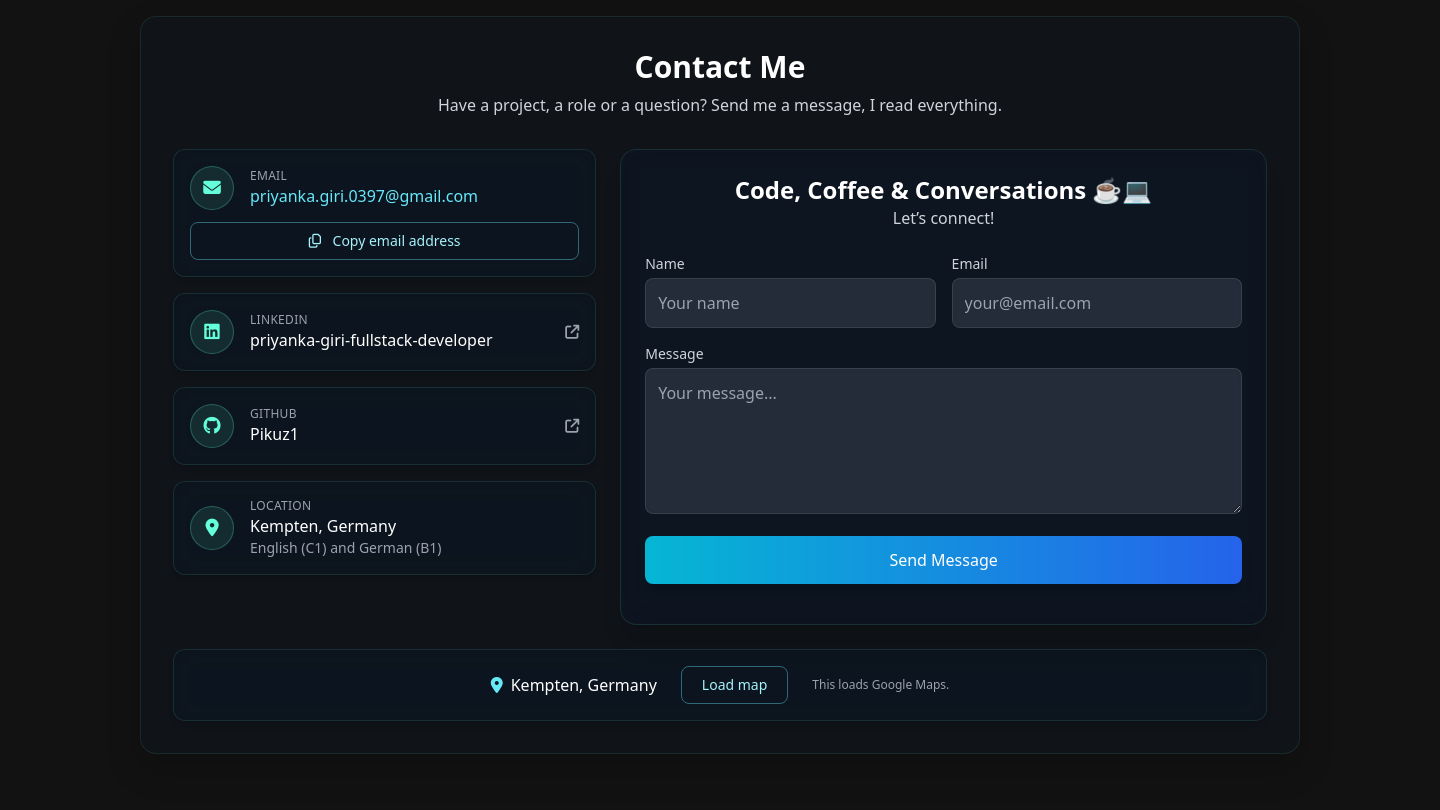
Scenario: ContactComponent › rejects a malformed email address
Type "Ada" into the field with id "name" at (790, 303), box [645,278,936,328]
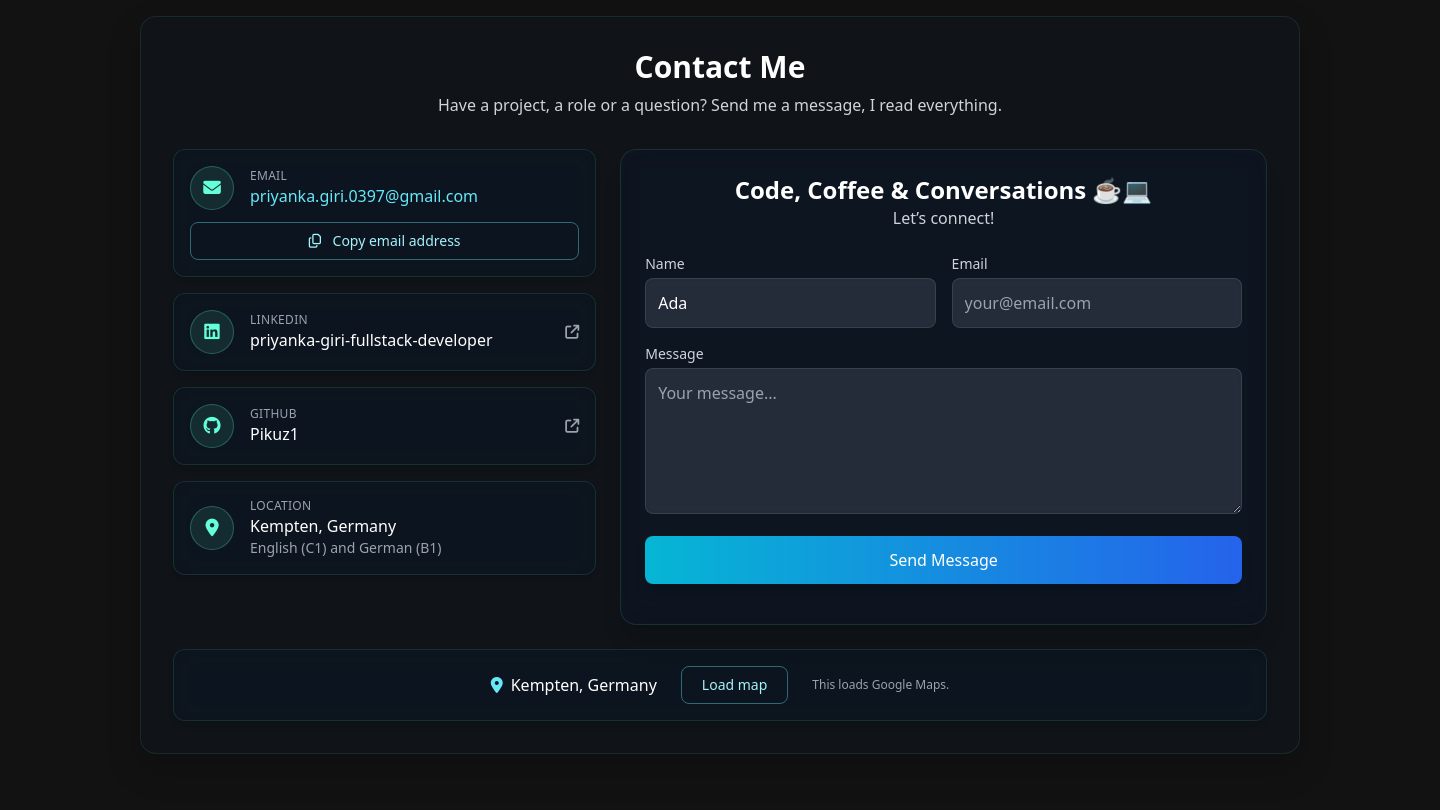
Type "ada@example.com" into the field labelled "Email" at (1097, 303), box [952,278,1242,328]
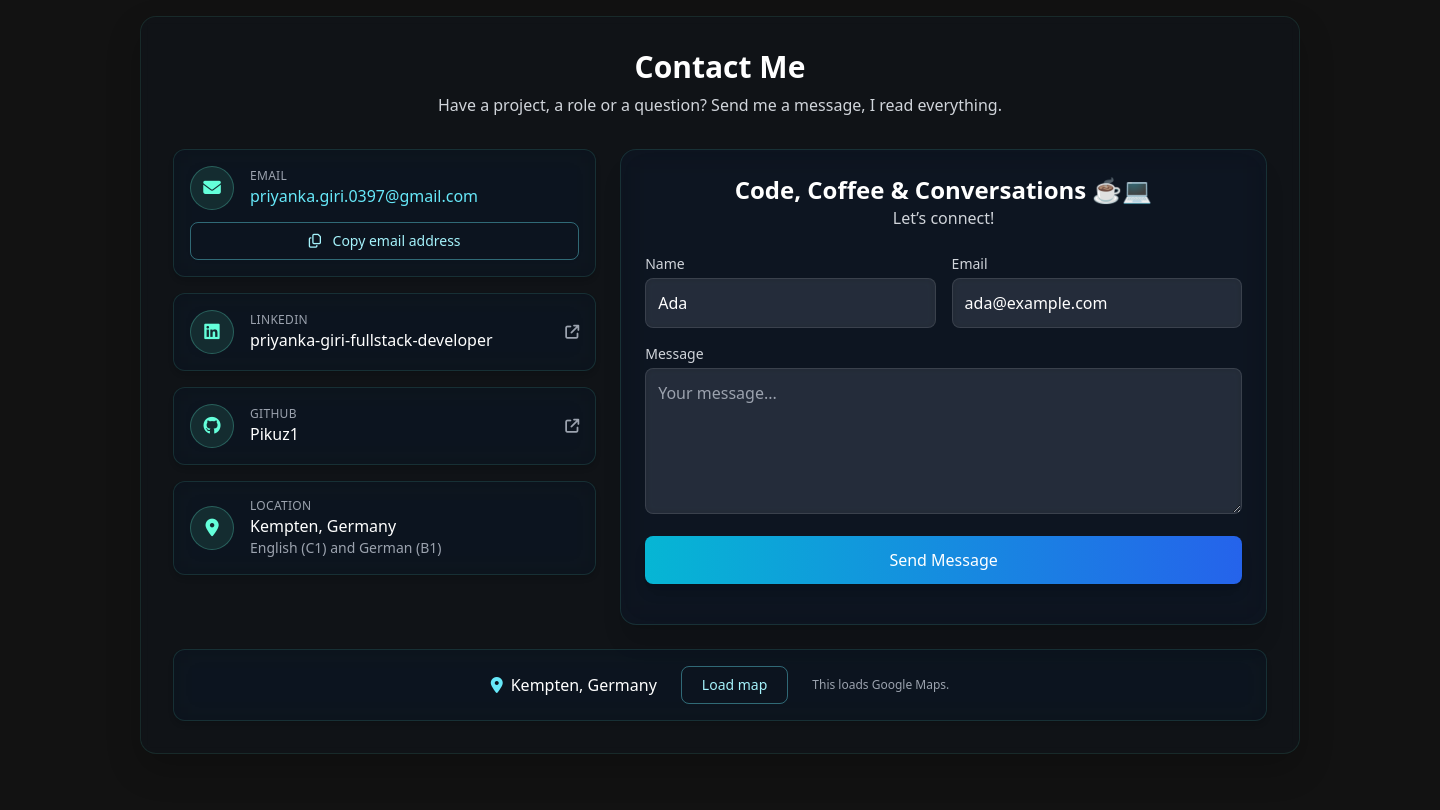
Type "Hello" into the text box labelled "Message" at (944, 441), box [645,368,1242,514]
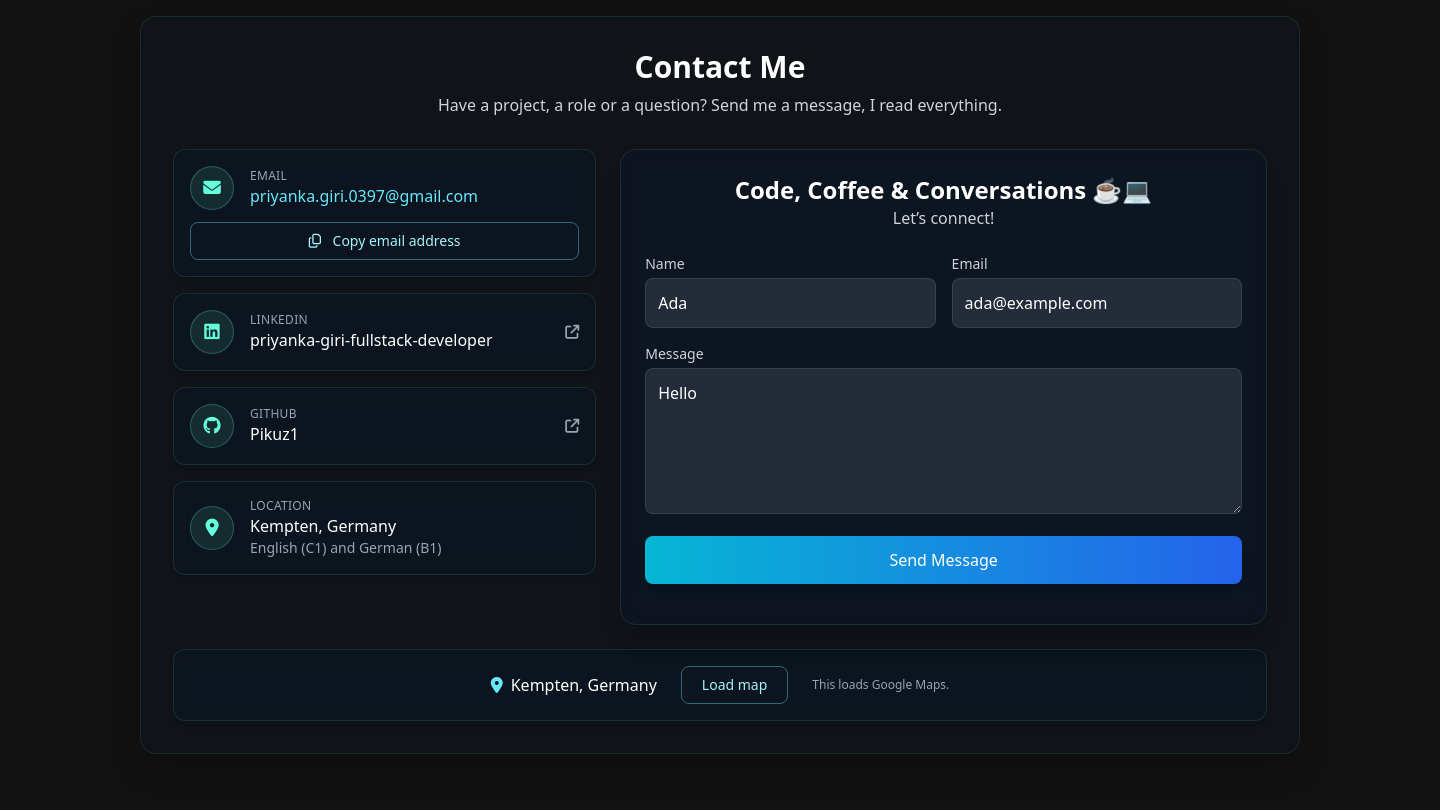
Replace the text in the field labelled "Email" with "not-an-email" at (1097, 303), box [952,278,1242,328]
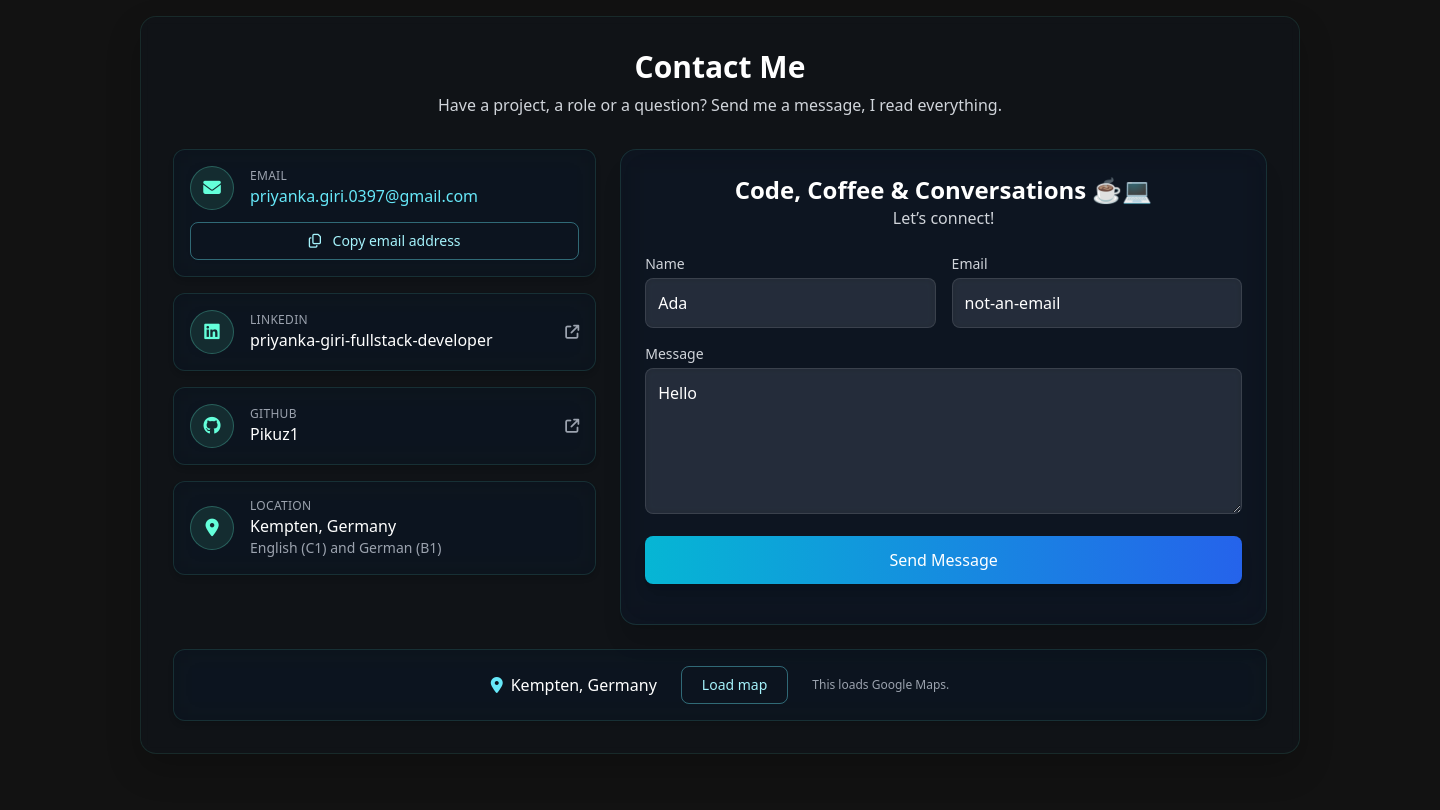
Submit the form, box [645,254,1242,584]
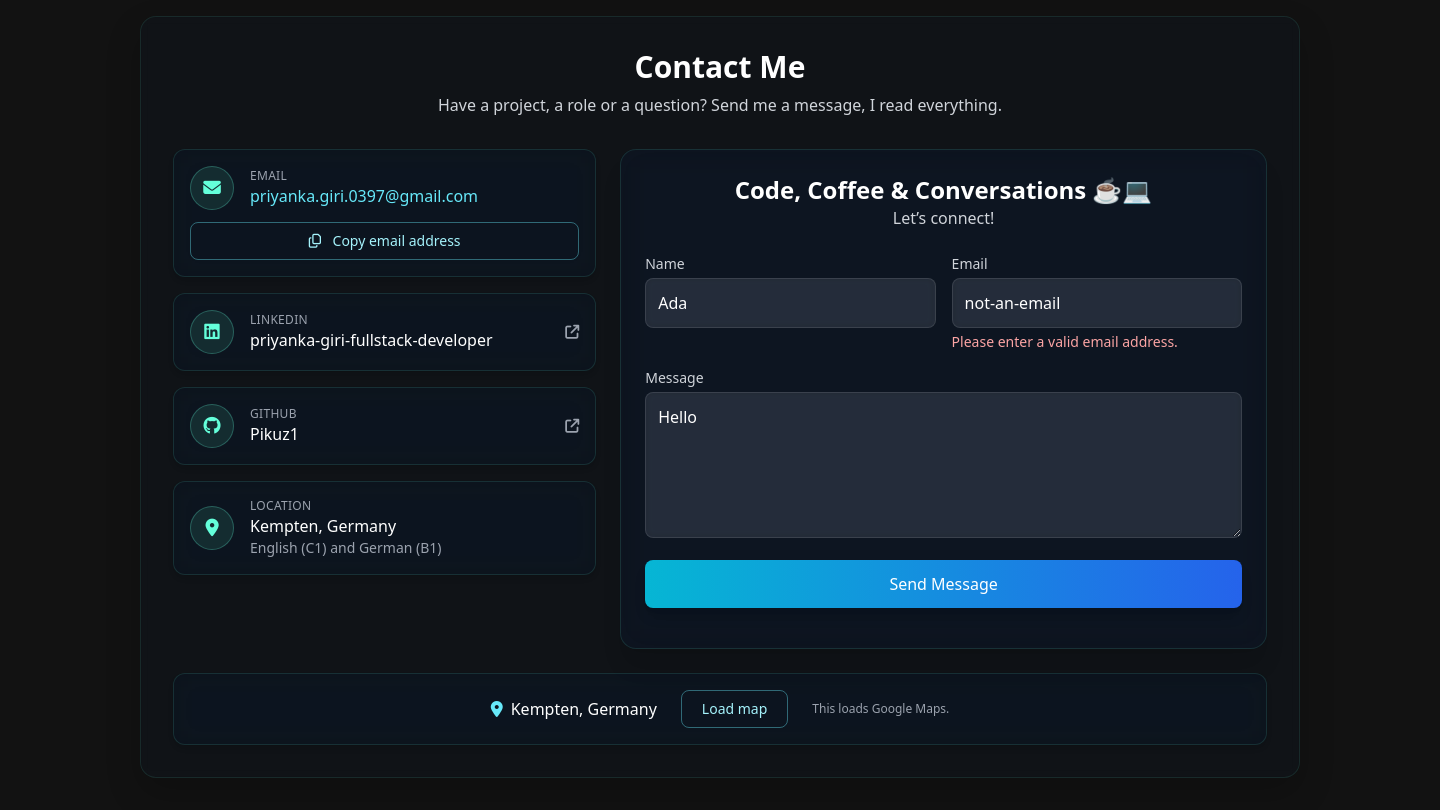
Expected: the text "Please enter a valid email address." is shown, [952,332,1178,351]
